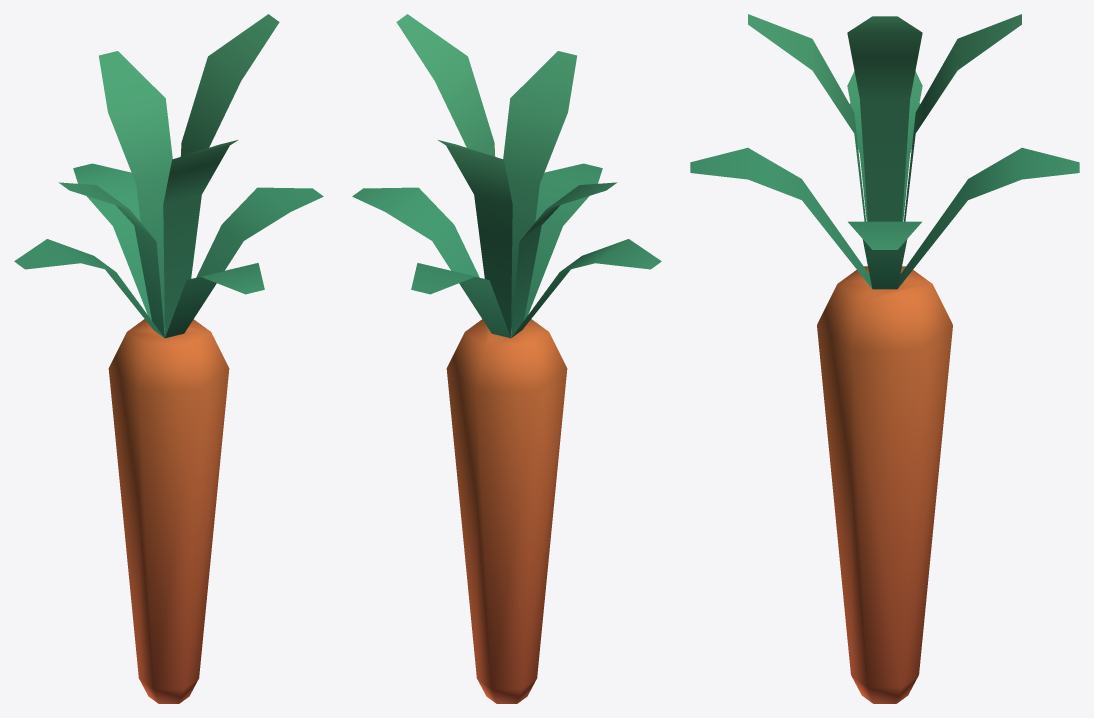
The model's file is carrot.glb.
3 renders of one model, left to right at view 1: azimuth 30°, elevation 25°; view 2: azimuth 150°, elevation 25°; view 3: azimuth 270°, elevation 25°, orthographic. The views are drawn at different scales.
Visible parts, largest first — view 1: carrot-2; view 2: carrot-2; view 3: carrot-2.
Boxes of the visible parts, x1,y1,x2,y2 form: carrot-2: [14, 14, 323, 703]; carrot-2: [352, 14, 661, 703]; carrot-2: [690, 14, 1079, 703].
Bounding box in the file's own units: 0.3431 × 0.7163 × 0.3431.
